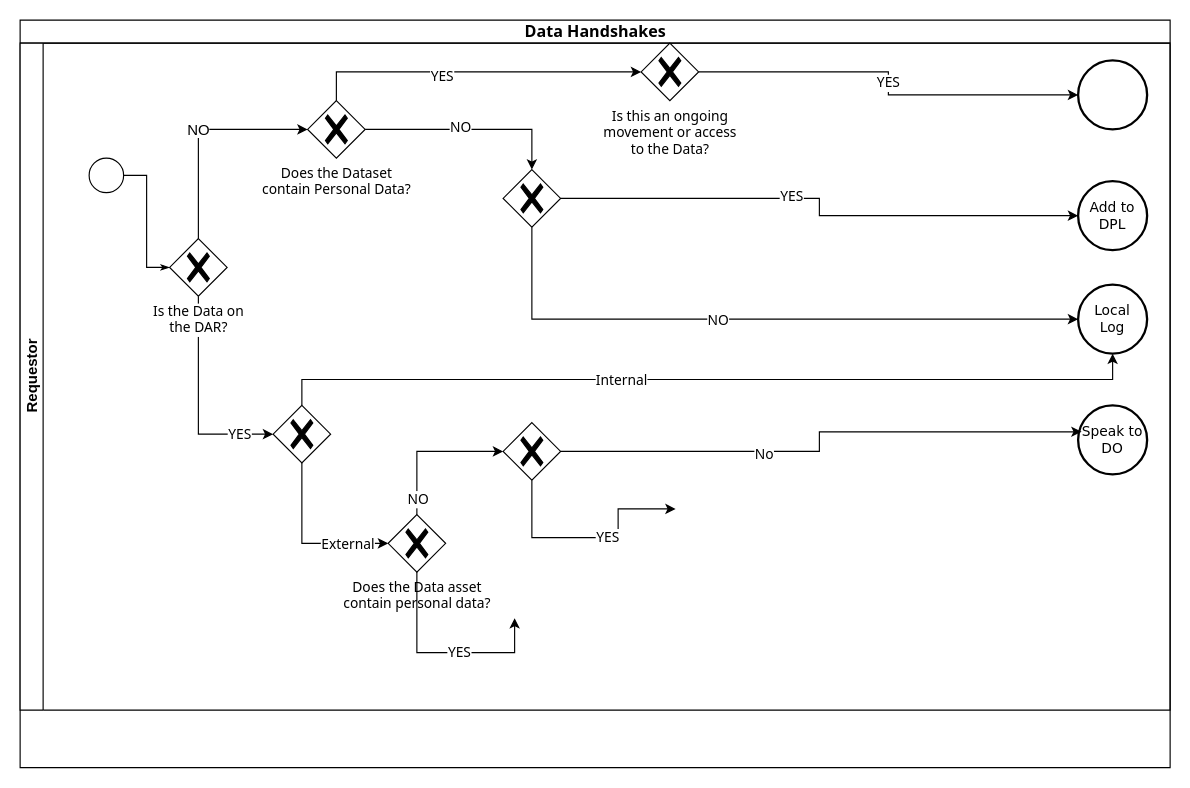
This 1190x788 diagram has some shape labels left out. The shapes that lost their labels are listed below. From the top down, each one's centre as x and y in pixels, then its label:
point (1112, 94): Add to DAR
point (531, 197): Does that Dataset contain any other type of sensitive data?
point (301, 433): Is this internal or External Data?
point (531, 450): Is this a new use case?
